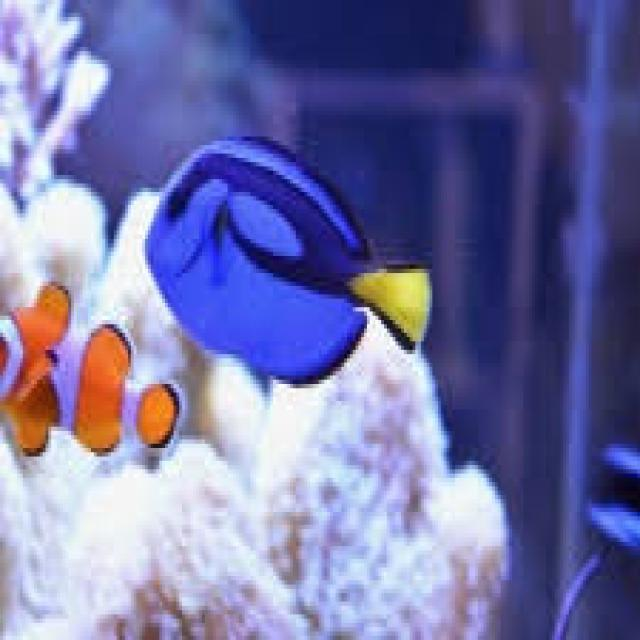ClownFish: (0, 282, 186, 461)
TangFish: (140, 131, 435, 389)
